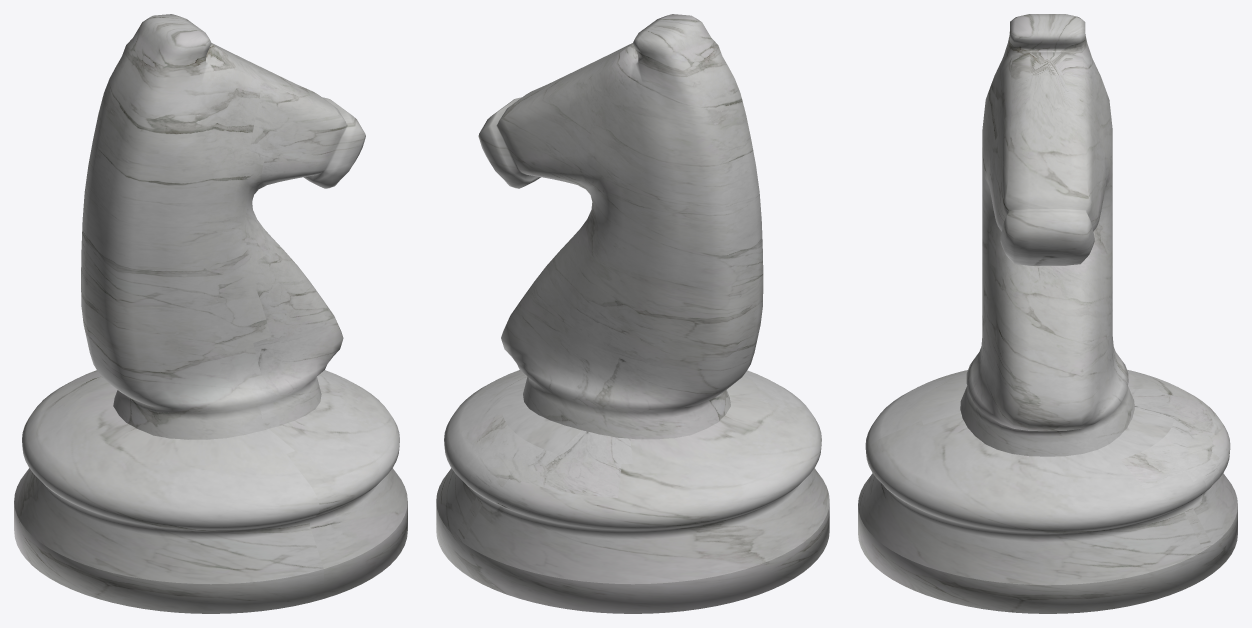
The model's file is ALL.gltf.
The picture shows the model from 3 angles, left to right: view 1: azimuth 30°, elevation 25°; view 2: azimuth 150°, elevation 25°; view 3: azimuth 270°, elevation 25°; orthographic projection. The views are drawn at different scales.
Parts seen in each view (by area): view 1: KnightWhite1; view 2: KnightWhite1; view 3: KnightWhite1.
Part boxes in pixels (x1,y1,x2,y2): KnightWhite1: [14, 14, 407, 613]; KnightWhite1: [436, 14, 829, 613]; KnightWhite1: [858, 14, 1237, 613].
Bounding box in the file's own units: 0.0211 × 0.0305 × 0.0211.
Materials: 1 (1 with a texture image).
